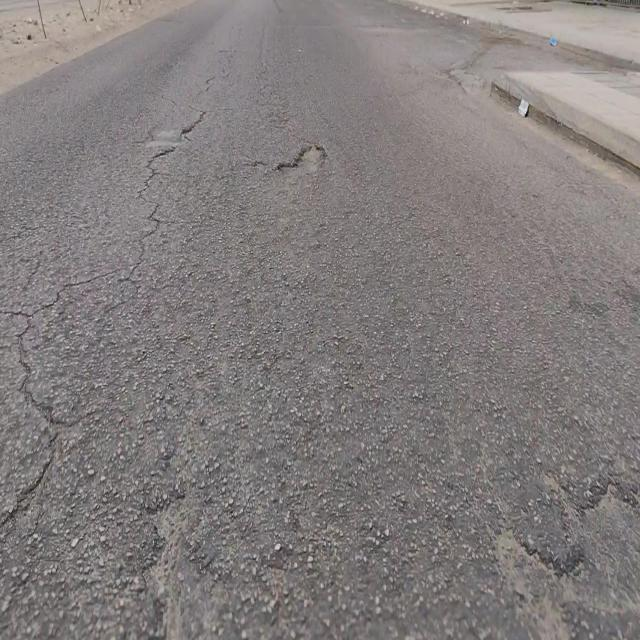Pothole: (278, 143, 329, 172)
